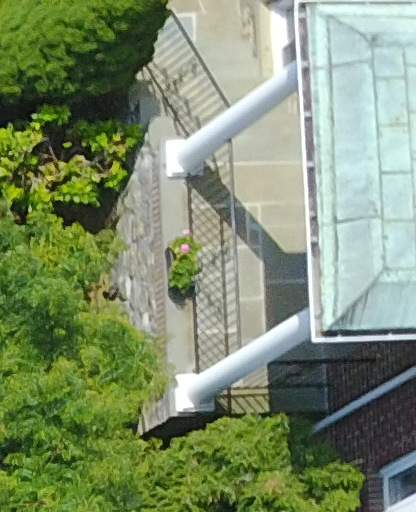flower pot: (163, 233, 210, 297)
